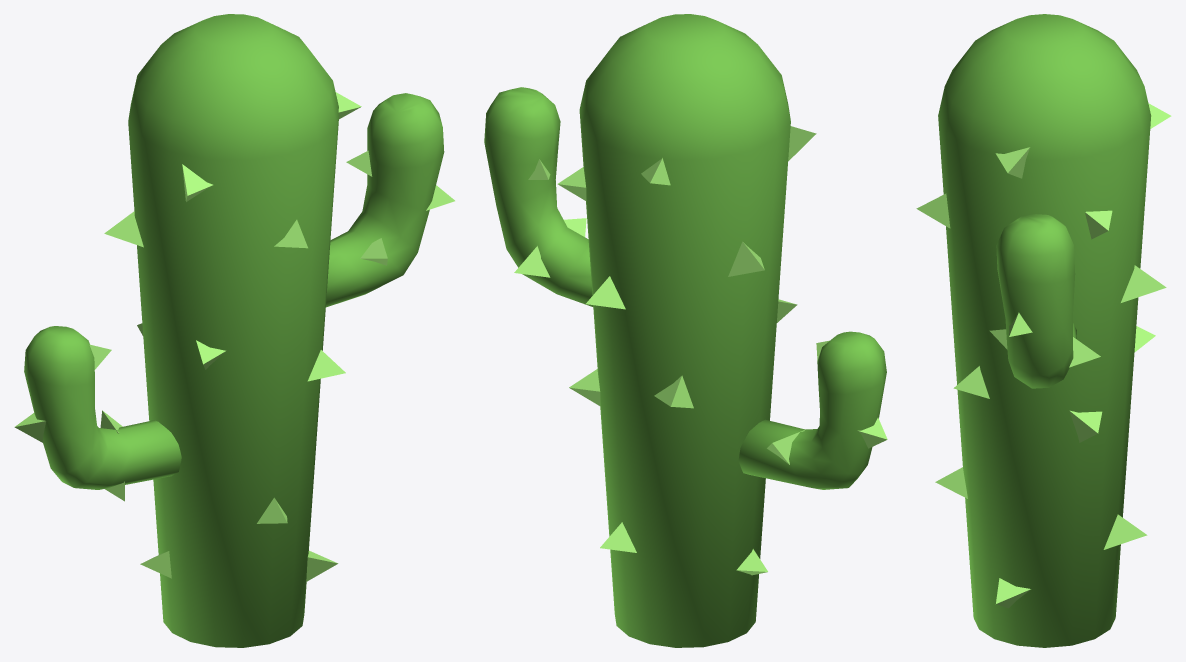
Rendered from cactus.fbx.
3 views of the same model, side by side, from view 1: azimuth 30°, elevation 25°; view 2: azimuth 150°, elevation 25°; view 3: azimuth 270°, elevation 25° (orthographic).
Parts seen in each view (by area): view 1: Cylinder, Cylinder.002, Cylinder.001, Cone.009; view 2: Cylinder, Cylinder.002, Cylinder.001, Cone.009, Cone.005, Cone.007, Cone.004, Cone.003; view 3: Cylinder, Cylinder.002, Cone.007, Cone.003, Cone.004, Cone.012, Cone.006, Cone.014, Cone.002, Cone.008, Cone, Cone.015.
Boxes of the visible parts, bbox=[...] form: Cylinder: bbox=[128, 14, 339, 647]; Cylinder.002: bbox=[326, 93, 444, 307]; Cylinder.001: bbox=[24, 326, 181, 489]; Cone.009: bbox=[104, 211, 143, 247]; Cylinder: bbox=[579, 14, 790, 647]; Cylinder.002: bbox=[484, 87, 593, 306]; Cylinder.001: bbox=[738, 331, 886, 489]; Cone.009: bbox=[728, 241, 764, 276]; Cone.005: bbox=[654, 375, 693, 408]; Cone.007: bbox=[586, 276, 625, 309]; Cone.004: bbox=[569, 369, 600, 405]; Cone.003: bbox=[600, 522, 636, 552]; Cylinder: bbox=[938, 14, 1151, 647]; Cylinder.002: bbox=[996, 214, 1076, 388]; Cone.007: bbox=[1121, 265, 1166, 302]; Cone.003: bbox=[1103, 514, 1147, 549]; Cone.004: bbox=[1069, 410, 1102, 442]; Cone.012: bbox=[995, 147, 1030, 178]; Cone.006: bbox=[916, 193, 950, 228]; Cone.014: bbox=[996, 578, 1030, 608]; Cone.002: bbox=[953, 366, 989, 398]; Cone.008: bbox=[1085, 210, 1112, 239]; Cone: bbox=[935, 467, 967, 498]; Cone.015: bbox=[1069, 337, 1100, 367].
Bounding box in the file's own units: 407 × 551 × 217.
